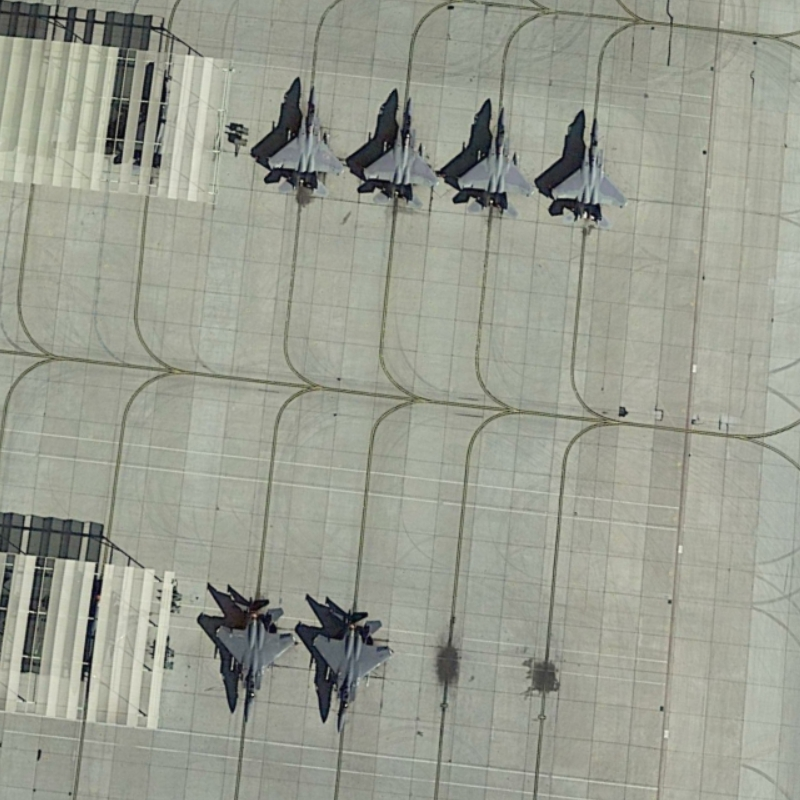A13: (304, 597, 397, 737), (209, 587, 299, 728), (254, 77, 348, 198), (543, 103, 630, 233), (452, 95, 537, 219), (357, 87, 441, 210)
